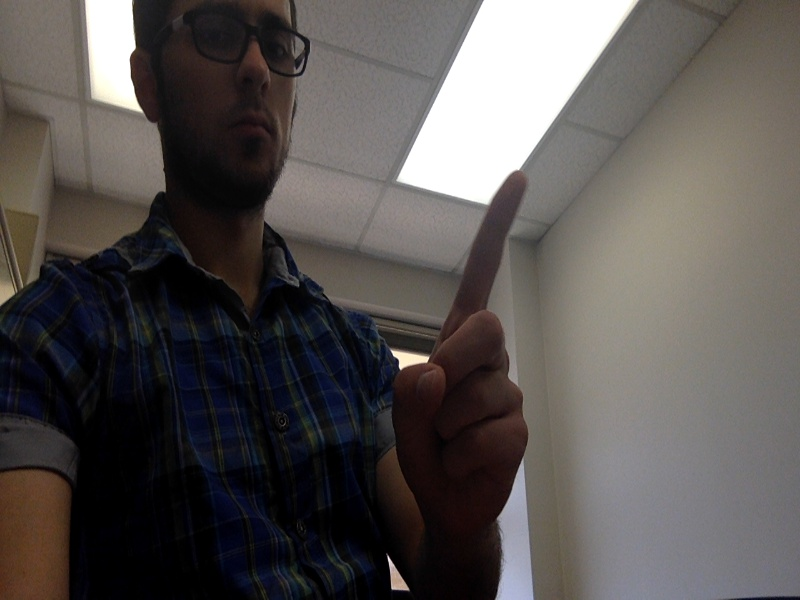1-hand: (389, 167, 536, 551)
